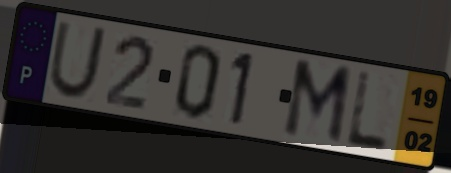0: (171, 42, 225, 123)
1: (227, 50, 258, 128)
2: (102, 33, 157, 113)
L: (343, 69, 390, 154)
M: (280, 57, 356, 149)
U: (45, 19, 110, 102)
